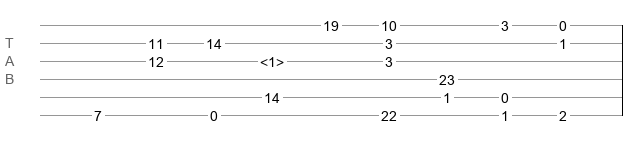0: (210, 108, 218, 118), (501, 90, 509, 100), (559, 18, 567, 28)
1: (443, 90, 451, 100), (501, 108, 509, 118), (559, 36, 567, 46)
10: (381, 18, 397, 28)
11: (148, 36, 164, 46)
12: (148, 54, 164, 64)
14: (206, 36, 222, 46), (264, 90, 280, 100)
19: (323, 18, 339, 28)
2: (559, 108, 567, 118)
22: (381, 108, 397, 118)
23: (439, 72, 455, 82)
3: (385, 54, 393, 64), (385, 36, 393, 46), (501, 18, 509, 28)
7: (94, 108, 102, 118)
harmonic: (260, 54, 284, 64)
